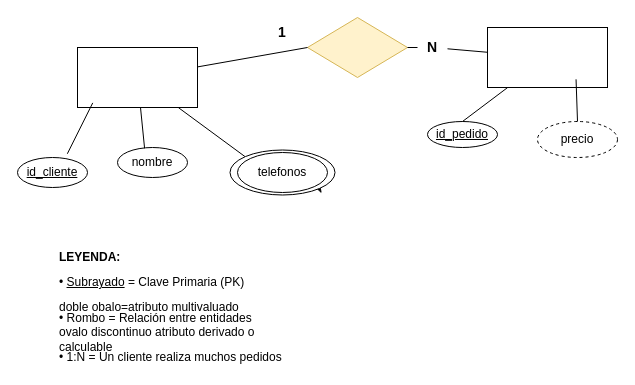
The diagram is 635 pixels wide and 385 high, and some of its shapes have lost their labels. The shapes that lost their labels are listed below. From the top down, each one's centre as x and y in pixels, then its label:
At [357,47]: "REALIZA".
At [547,57]: "pedido".
At [137,77]: "cliente".
